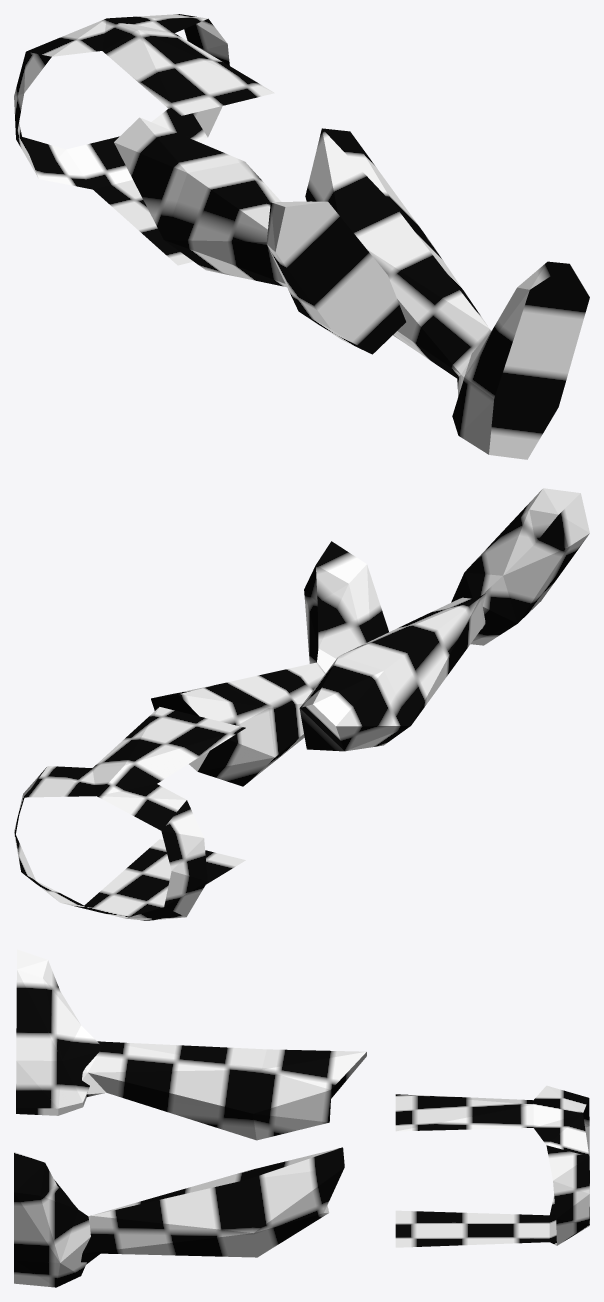
File: initarlg7.dae
The picture shows the model from 3 angles, top to bottom: view 1: azimuth 30°, elevation 25°; view 2: azimuth 150°, elevation 25°; view 3: azimuth 270°, elevation 25°; orthographic projection. The views are drawn at different scales.
Parts seen in each view (by area): view 1: armor; view 2: armor; view 3: armor.
Part boxes in pixels (x1,y1,x2,y2): armor: (14, 14, 589, 459); armor: (14, 488, 589, 920); armor: (14, 949, 589, 1287).
Size of the model in its own units: 0.7952 by 1.62 by 0.7601.
1 material, 1 textured.
